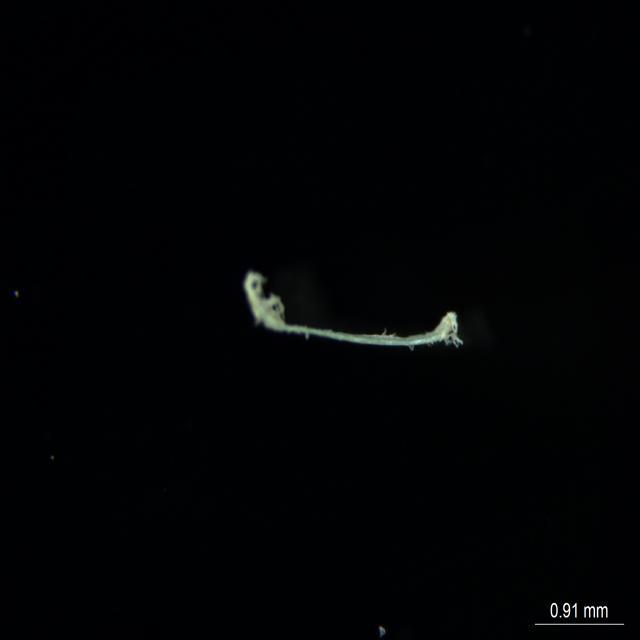fibers: (235, 269, 469, 369)
